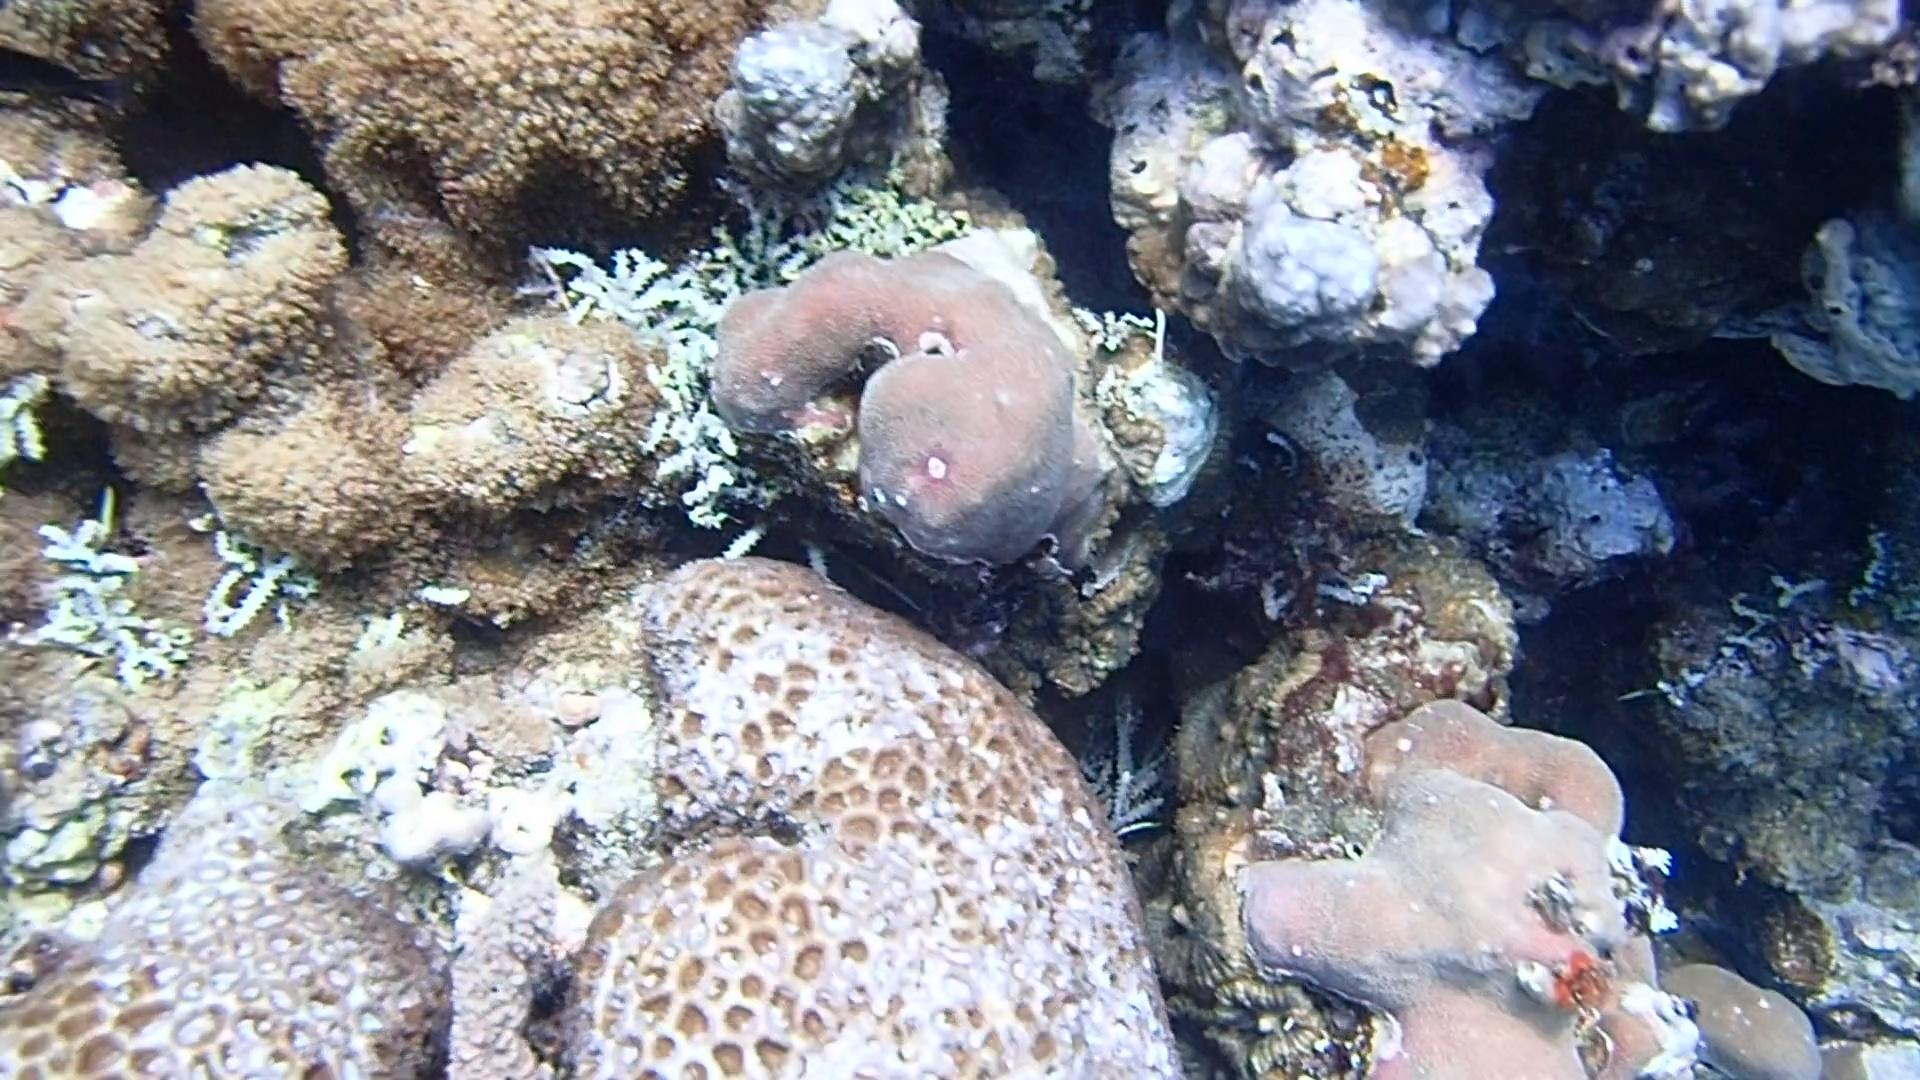Dark Fish: (0, 40, 158, 125)
